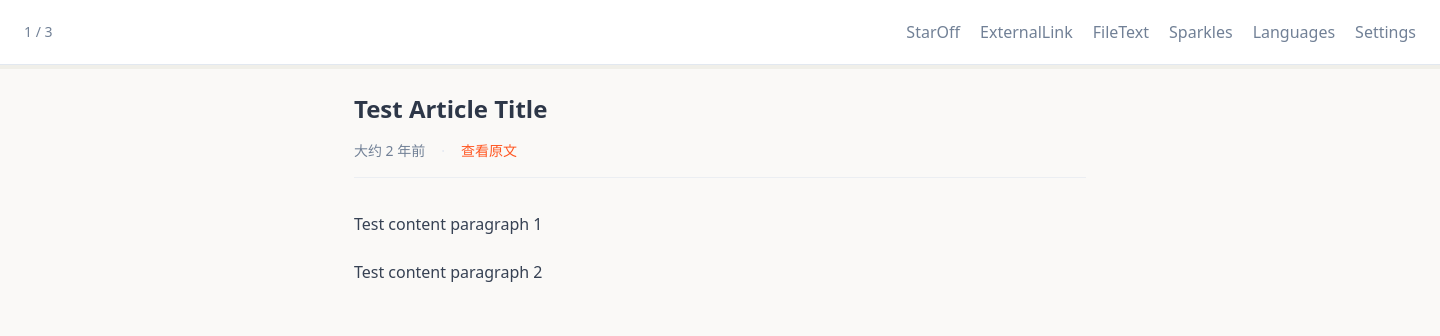
Test case: ArticleViewer › error handling › should show error banner when fetch full content fails
Click the button titled "抓取全文". click: click(1121, 32)
box: left=1085, top=12, right=1157, bottom=52
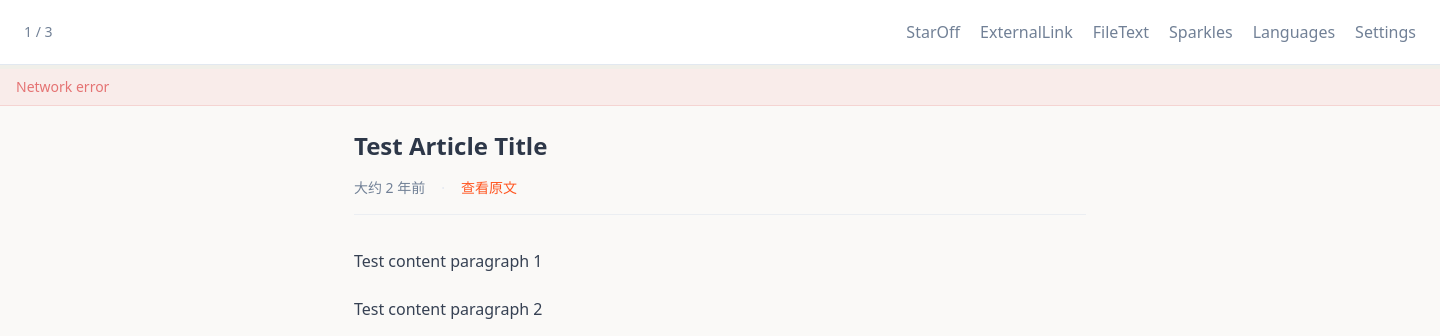
Check: the text with test id "fetch-error-banner" reads "Network error", box left=16, top=77, right=109, bottom=96
